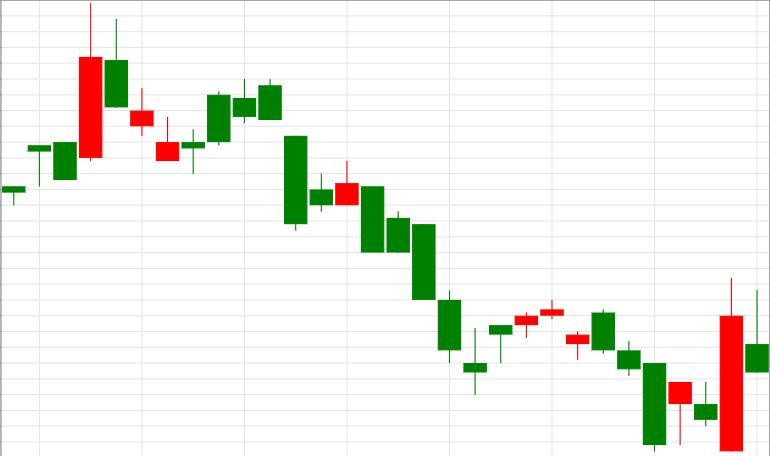bullish_engulfing_rise: (592, 278, 742, 452)
